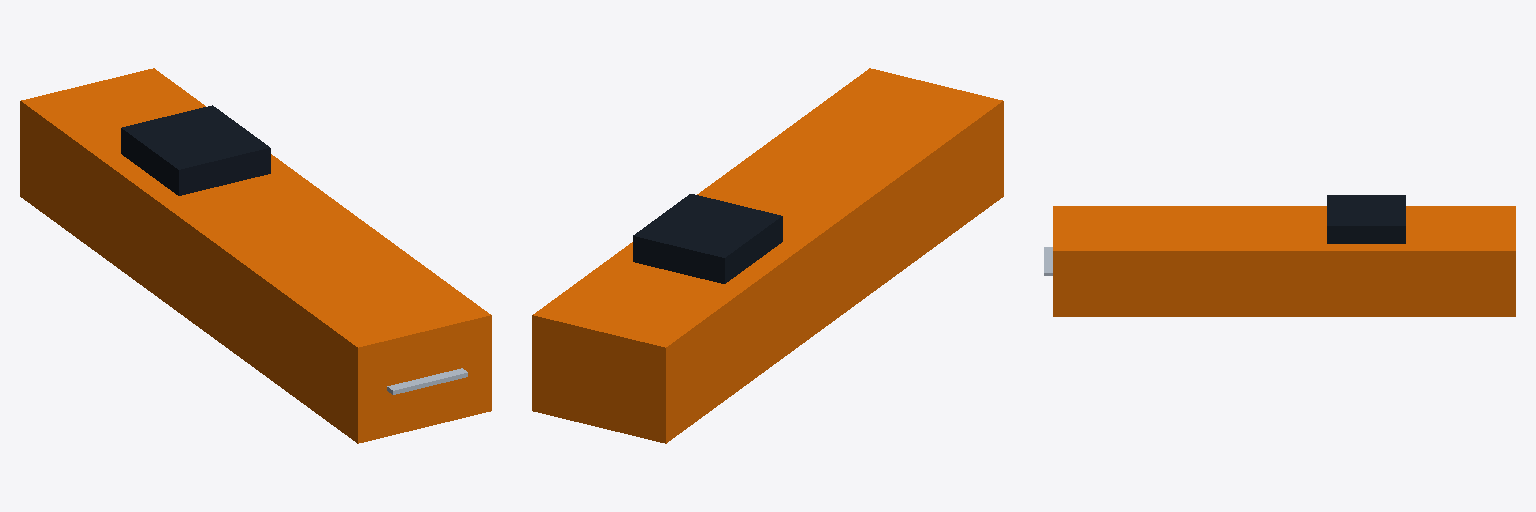
The robot description file, URDF, robot "wuji_knife_demo":
<?xml version='1.0' encoding='utf-8'?>
<robot name="wuji_knife_demo"><link name="link_0"><inertial><mass value="0.08" /><inertia ixx="0.00013389333333333335" iyy="1.0053333333333333e-05" izz="0.00013749333333333335" ixy="0" ixz="0" iyz="0" /></inertial><visual><geometry><box size="0.032 0.14 0.022" /></geometry><material name="link_0_color"><color rgba=".92 .48 .06 1" /></material></visual><collision><geometry><box size="0.032 0.14 0.022" /></geometry></collision></link><link name="link_1"><inertial><mass value="0.01" /><inertia ixx="5.100000000000001e-07" iyy="4.333333333333333e-07" izz="8.833333333333334e-07" ixy="0" ixz="0" iyz="0" /></inertial><visual><geometry><box size="0.022 0.024 0.006" /></geometry><material name="link_1_color"><color rgba=".12 .15 .19 1" /></material></visual><collision><geometry><box size="0.022 0.024 0.006" /></geometry></collision><visual><origin xyz="0 -0.08 -0.013999999999999999" /><geometry><box size=".018 .035 .001" /></geometry><material name="blade"><color rgba=".75 .79 .84 1" /></material></visual></link><joint name="slider_joint" type="prismatic"><parent link="link_0" /><child link="link_1" /><origin xyz="0 .025 0.013999999999999999" /><axis xyz="0 -1 0" /><limit lower="0" upper="0.04" effort="20" velocity=".2" /><dynamics damping=".3" friction="0" /></joint></robot>

--- What the picture shows (computed from the rendered views, not written in the file) ---
Views: 3 orthographic renders of the robot side by side, from view 1: azimuth 30°, elevation 25°; view 2: azimuth 150°, elevation 25°; view 3: azimuth 270°, elevation 25°.
Robot: wuji_knife_demo — 2 links, 1 joints (1 prismatic); root link link_0; default pose: all joints at 0.
Links seen in each view (by area): view 1: link_0, link_1; view 2: link_0, link_1; view 3: link_0, link_1.
Link boxes in pixels (<box>): link_0: <box>20,68,491,443</box>; link_1: <box>121,105,467,394</box>; link_0: <box>532,68,1003,443</box>; link_1: <box>633,194,782,283</box>; link_0: <box>1053,206,1515,316</box>; link_1: <box>1044,195,1405,275</box>.
Bounding box of the posed robot: 0.032 × 0.1425 × 0.028 m (x, y, z).
Geometry: primitives only (box / cylinder / sphere), no mesh files.
